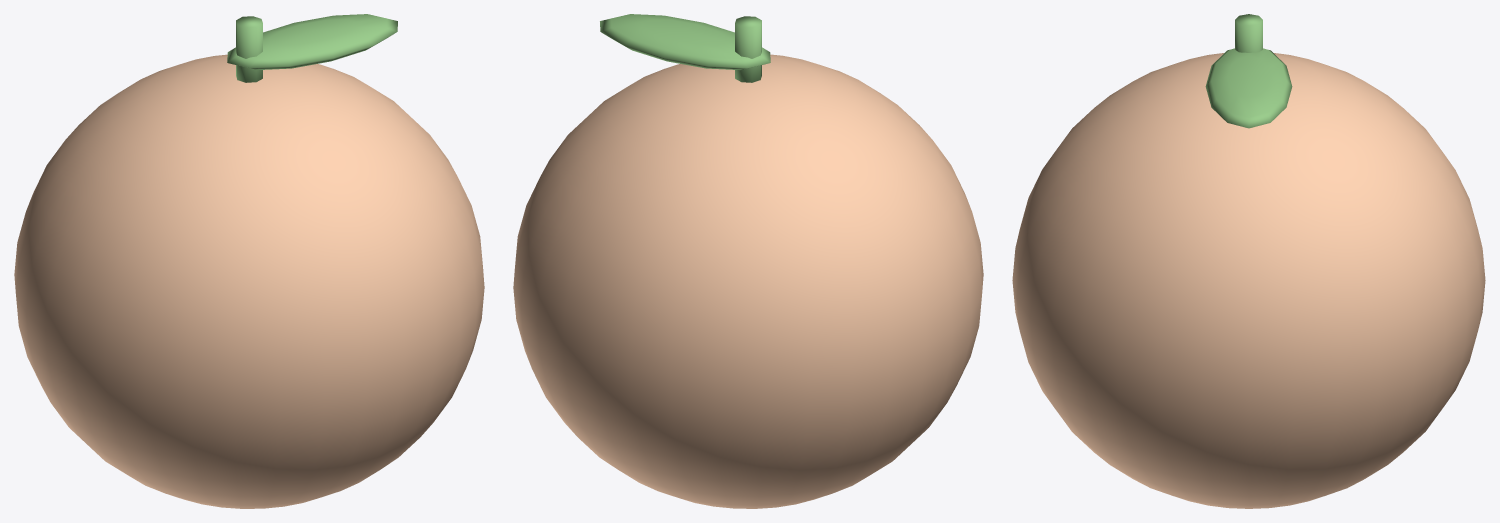
Rendered from Peach.glb.
3 views of the same model, side by side, from view 1: azimuth 30°, elevation 25°; view 2: azimuth 150°, elevation 25°; view 3: azimuth 270°, elevation 25° (orthographic).
Parts seen in each view (by area): view 1: Peach; view 2: Peach; view 3: Peach.
Boxes of the visible parts, bbox=[...] form: Peach: bbox=[14, 14, 484, 508]; Peach: bbox=[513, 14, 983, 508]; Peach: bbox=[1012, 14, 1485, 508].
Bounding box in the file's own units: 0.84 × 0.9132 × 0.84.
